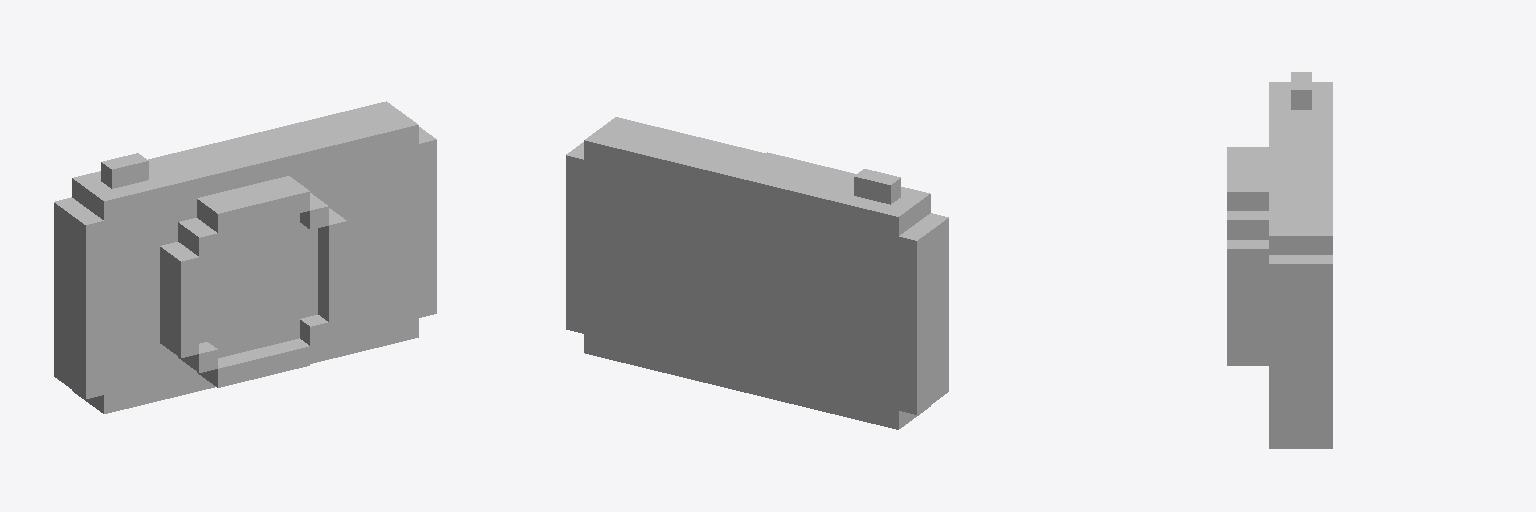
File: camera.obj
The picture shows the model from 3 angles: view 1: azimuth 30°, elevation 25°; view 2: azimuth 150°, elevation 25°; view 3: azimuth 270°, elevation 25°; orthographic projection.
Visible parts, largest first — view 1: camera; view 2: camera; view 3: camera.
Part boxes in pixels (bbox=[...]): camera: bbox=[54, 101, 436, 413]; camera: bbox=[566, 117, 948, 429]; camera: bbox=[1227, 72, 1332, 448].
Size of the model in its own units: 19 by 12 by 5.